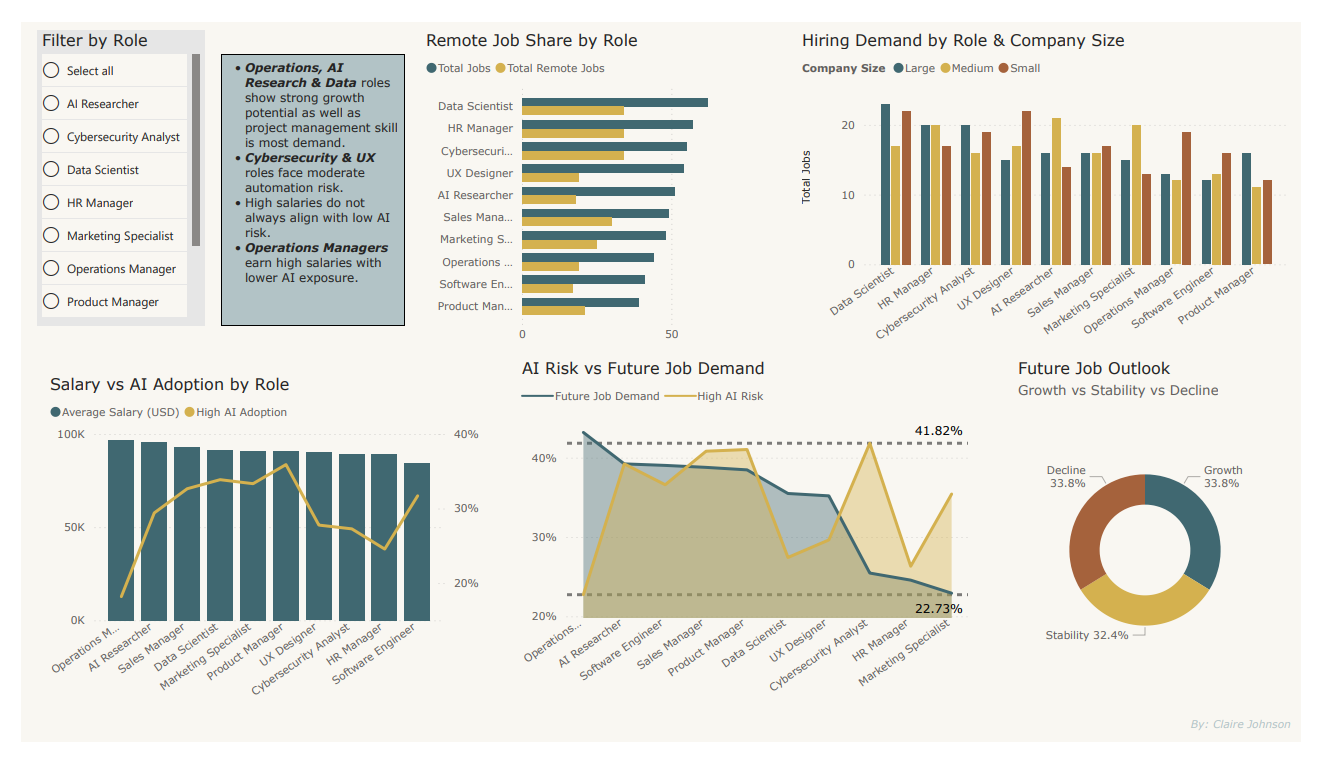

This screenshot's page, from the dashboard's own definition file:
{"tool":"powerbi","page":{"name":"Job Market Analysis by Role","canvas":[1280,720],"ordinal":2},"visuals":[{"type":"clusteredBarChart","title":"Remote Job Share by Role","fields":{"Category":["ai_job_market_insights.Jobs"],"Y":["CountNonNull(ai_job_market_insights.Jobs)","Sum(ai_job_market_insights.Remote Jobs)"]},"box":[400,8,352,320],"z":0},{"type":"clusteredColumnChart","title":"Hiring Demand by Role & Company Size","fields":{"Y":["CountNonNull(ai_job_market_insights.Company Size)"],"Series":["Company Size.Company Size"],"Category":["ai_job_market_insights.Jobs"]},"box":[776,8,496,320],"z":1000},{"type":"lineStackedColumnComboChart","title":"Salary vs AI Adoption by Role","fields":{"Category":["ai_job_market_insights.Jobs"],"Y":["Avg(ai_job_market_insights.Salary (USD))"],"Y2":["ai_job_market_insights.High AI Adoption"]},"box":[24,352,440,336],"z":2000},{"type":"listSlicer","title":"Filter by Role","fields":{"Values":["ai_job_market_insights.Jobs"]},"box":[16,8,168,296],"z":3000},{"type":"donutChart","title":"Future Job Outlook","fields":{"Y":["ai_job_market_insights.% Job Growth Projection","ai_job_market_insights.% Job Stable Projection","ai_job_market_insights.% Job Decline Projection"]},"box":[992,336,264,344],"z":4000},{"type":"areaChart","title":"AI Risk vs Future Job Demand","fields":{"Category":["ai_job_market_insights.Jobs"],"Y":["ai_job_market_insights.Future Growth Roles","ai_job_market_insights.High Automation Risk"]},"box":[496,336,456,352],"z":5000},{"type":"textbox","box":[200,32,184,272],"z":6000},{"type":"textbox","box":[1160,688,120,32],"z":7000}]}

Visuals, with their boxes in screenshot pixels (x1, y1, x2, y2), scaled from the page's 1280x720 canvas onto the 1321x765 screenshot:
"Remote Job Share by Role" clusteredBarChart: box(413, 8, 776, 348)
"Hiring Demand by Role & Company Size" clusteredColumnChart: box(801, 8, 1313, 348)
"Salary vs AI Adoption by Role" lineStackedColumnComboChart: box(25, 374, 479, 731)
"Filter by Role" listSlicer: box(17, 8, 190, 323)
"Future Job Outlook" donutChart: box(1024, 357, 1296, 722)
"AI Risk vs Future Job Demand" areaChart: box(512, 357, 982, 731)
textbox: box(206, 34, 396, 323)
textbox: box(1197, 731, 1320, 764)
